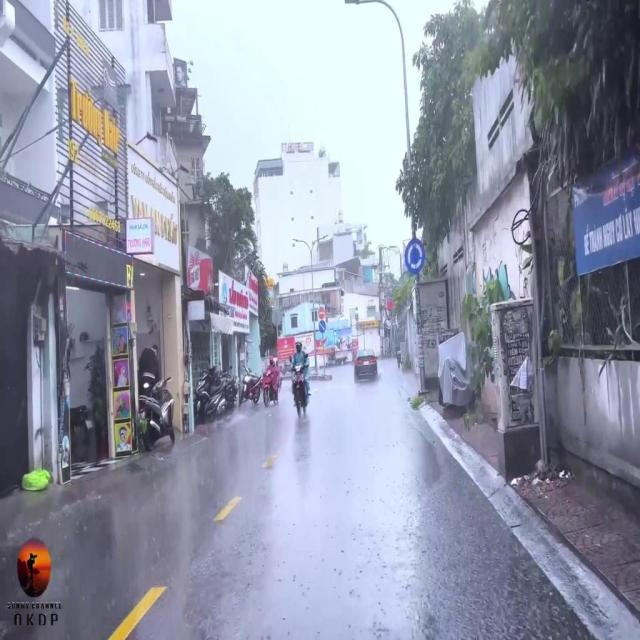cam_xe_di_nguoc_chieu: (318, 306, 325, 320)
huong_phai_di_vuot_chuong_ngai_vat_phai: (319, 321, 326, 333)
noi_giao_nhau_chay_theo_vong: (405, 237, 425, 273)
